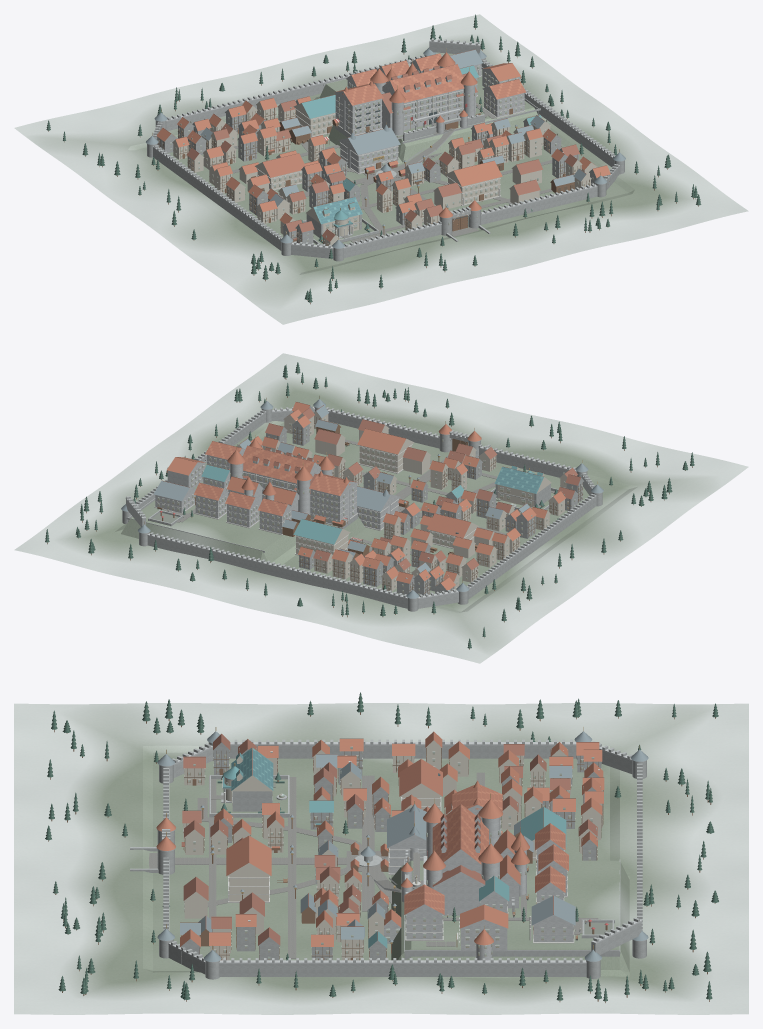
File: sharia.glb
3 renders of one model, top to bottom at view 1: azimuth 30°, elevation 25°; view 2: azimuth 150°, elevation 25°; view 3: azimuth 270°, elevation 25°, orthographic. The views are drawn at different scales.
Visible parts, largest first — view 1: Sharia_city_reconstruction; view 2: Sharia_city_reconstruction; view 3: Sharia_city_reconstruction.
Part boxes in pixels (x1=…): Sharia_city_reconstruction: x1=14, y1=14, x2=748, y2=324; Sharia_city_reconstruction: x1=14, y1=353, x2=748, y2=663; Sharia_city_reconstruction: x1=14, y1=692, x2=748, y2=1014.
Size of the model in its own units: 222 by 31.25 by 222.
28 materials, 18 textured.
